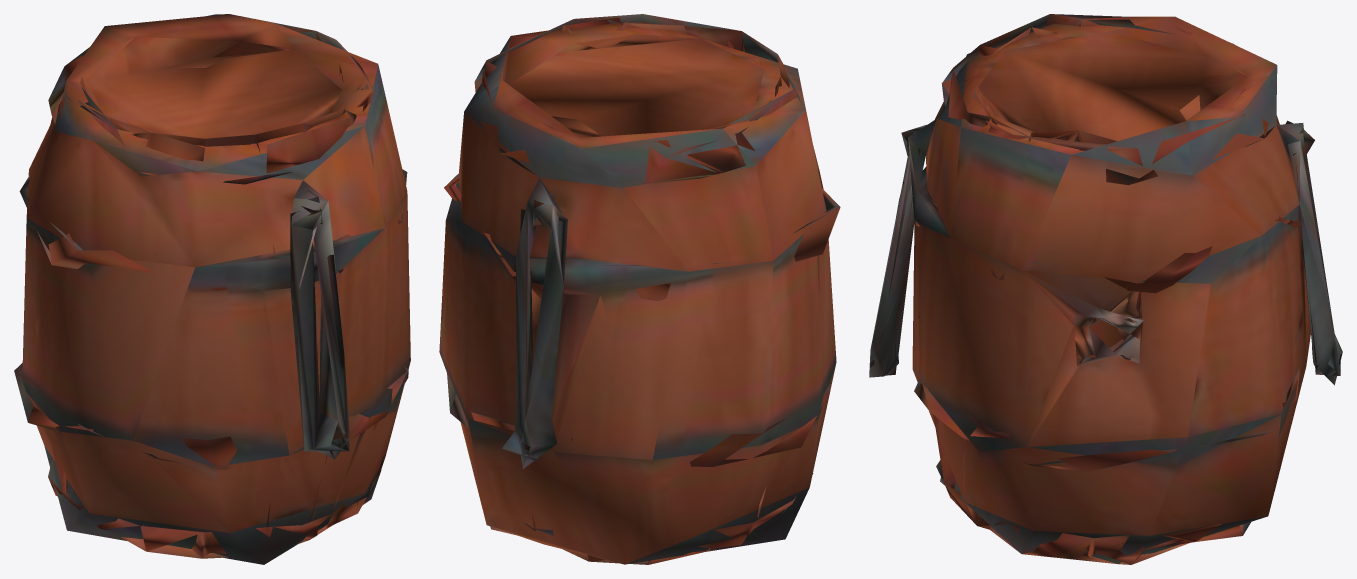
File: lg-quench-barrel.glb
3 views of the same model, side by side, from view 1: azimuth 30°, elevation 25°; view 2: azimuth 150°, elevation 25°; view 3: azimuth 270°, elevation 25° (orthographic).
Visible parts, largest first — view 1: geometry_0; view 2: geometry_0; view 3: geometry_0.
Part boxes in pixels (left/top/right/bottom): geometry_0: left=14, top=14, right=410, bottom=564; geometry_0: left=439, top=14, right=840, bottom=564; geometry_0: left=869, top=14, right=1342, bottom=564.
Bounding box in the file's own units: 0.8544 × 0.9946 × 1.
Materials: 1 (1 with a texture image).
